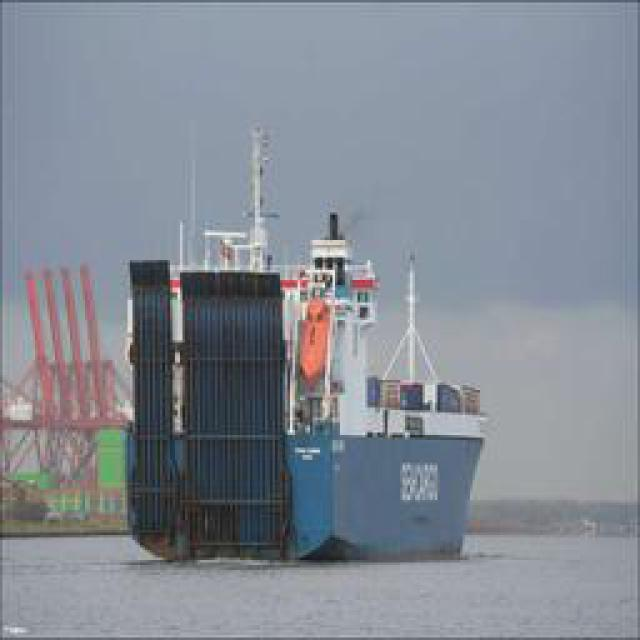Ship: (109, 205, 491, 568)
